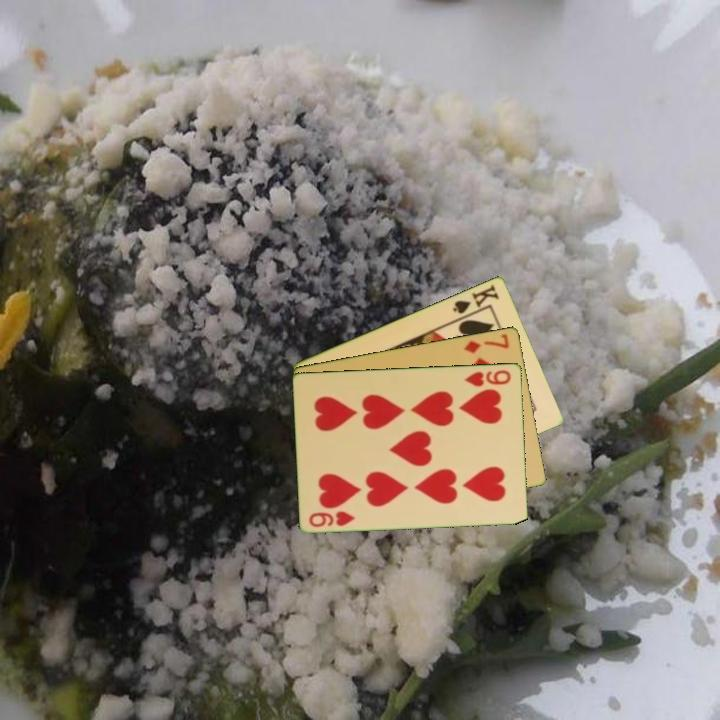7d: (460, 330, 512, 356)
9h: (461, 366, 514, 389), (306, 507, 358, 530)
Ks: (449, 281, 502, 322)
